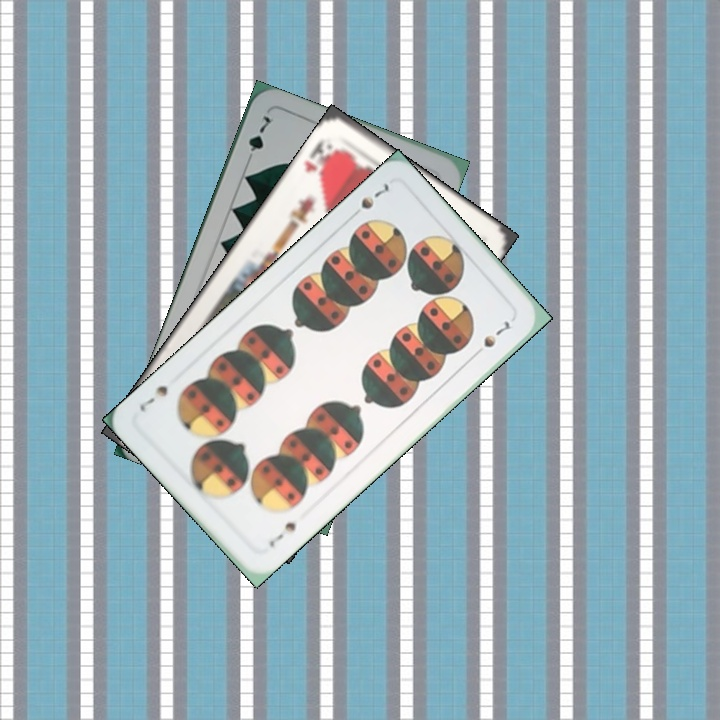G7: (242, 111, 273, 167)
HK: (299, 134, 341, 179)
S7: (345, 179, 392, 222), (265, 518, 299, 550)
